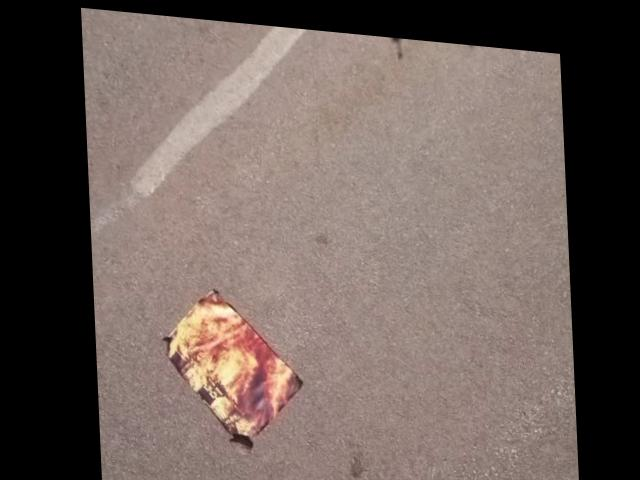fire-poster: (153, 280, 303, 450)
